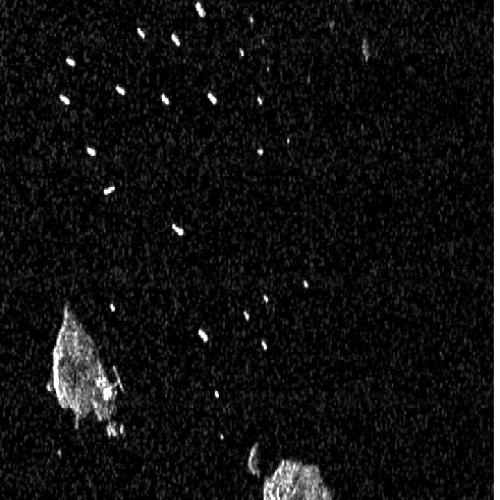ship: (102, 183, 117, 197), (194, 2, 206, 18), (58, 93, 71, 107), (172, 223, 185, 237), (197, 327, 208, 342), (206, 92, 218, 105), (160, 92, 171, 106), (170, 32, 181, 46), (65, 55, 76, 68), (85, 146, 98, 157), (115, 85, 126, 96), (136, 27, 145, 40), (260, 340, 268, 352), (256, 94, 263, 107), (256, 147, 264, 157), (218, 431, 225, 442), (243, 311, 250, 322), (262, 294, 270, 303), (109, 302, 116, 312), (302, 278, 309, 288), (214, 388, 220, 399), (239, 48, 246, 57), (249, 16, 254, 25), (286, 137, 290, 144)
